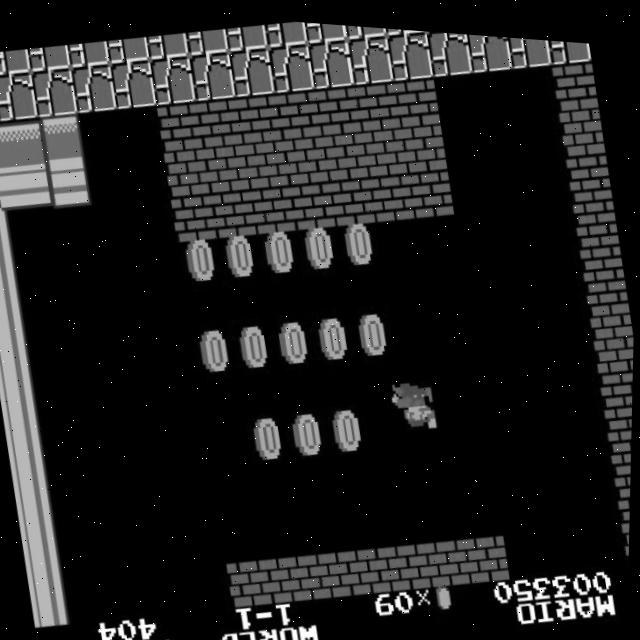1- brick_block: (464, 522, 513, 577), (392, 67, 441, 122), (424, 527, 473, 582), (353, 72, 402, 127), (321, 122, 370, 177), (346, 536, 395, 591), (281, 127, 330, 182), (306, 541, 355, 596), (234, 86, 283, 141), (202, 136, 251, 191), (195, 91, 244, 146), (227, 550, 276, 605), (407, 159, 456, 213), (360, 118, 409, 172), (385, 532, 434, 586), (328, 168, 377, 222), (288, 173, 337, 227), (274, 82, 323, 136), (249, 178, 298, 232), (266, 546, 315, 600), (209, 182, 258, 236), (162, 141, 211, 195), (572, 186, 620, 241), (400, 113, 448, 168), (314, 77, 362, 132), (242, 132, 290, 187), (367, 164, 416, 217), (587, 277, 635, 331), (580, 232, 628, 286), (565, 141, 613, 195), (551, 50, 599, 104), (170, 187, 218, 241), (156, 96, 204, 150), (559, 95, 606, 149), (594, 322, 635, 376), (601, 367, 634, 421), (609, 414, 633, 466), (616, 459, 633, 511)
11- little_mario: (390, 371, 442, 430)
14- pipe: (4, 159, 53, 214), (30, 574, 79, 629), (8, 437, 57, 492), (1, 392, 50, 447), (23, 529, 72, 583), (16, 483, 65, 537), (0, 114, 47, 169), (0, 347, 43, 401), (0, 301, 36, 355), (0, 256, 29, 310), (0, 212, 21, 264), (0, 167, 14, 219)
15- pipe_head: (44, 155, 93, 210), (37, 109, 86, 164)
17- undestructible_block: (346, 27, 395, 82), (306, 31, 355, 86), (227, 40, 276, 95), (187, 45, 236, 100), (148, 50, 197, 105), (109, 54, 158, 109), (69, 59, 118, 114), (385, 22, 434, 76), (267, 36, 316, 90), (30, 64, 78, 119), (424, 25, 473, 72), (0, 69, 39, 123), (464, 27, 513, 67), (503, 29, 552, 62), (145, 27, 190, 60), (185, 22, 229, 55), (66, 36, 110, 69), (27, 41, 71, 74), (224, 18, 268, 50), (106, 32, 150, 64), (264, 15, 308, 45), (544, 32, 591, 58), (303, 18, 347, 41), (0, 46, 31, 78), (343, 20, 387, 37), (382, 22, 426, 32)
2- coin: (349, 304, 398, 359), (335, 213, 384, 268), (296, 218, 345, 273), (231, 318, 280, 373), (216, 227, 265, 282), (191, 323, 240, 378), (177, 232, 226, 287), (324, 400, 373, 454), (284, 405, 333, 459), (270, 314, 319, 368), (256, 223, 305, 277), (245, 410, 294, 464), (310, 309, 358, 364)
